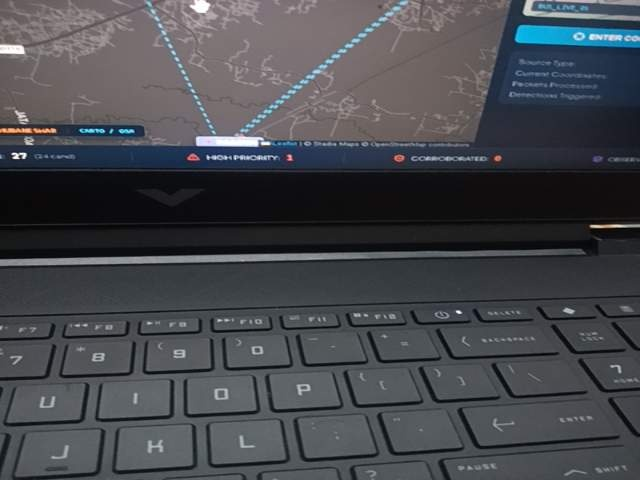pothole: (104, 403, 312, 480), (535, 403, 640, 480)
